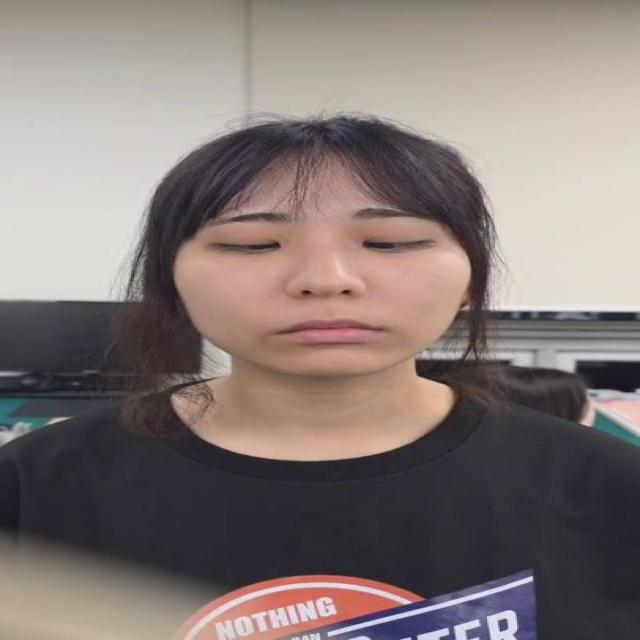eyes: (208, 230, 434, 258)
face: (167, 118, 479, 378)
iris_down: (247, 238, 279, 255), (363, 237, 402, 250)
